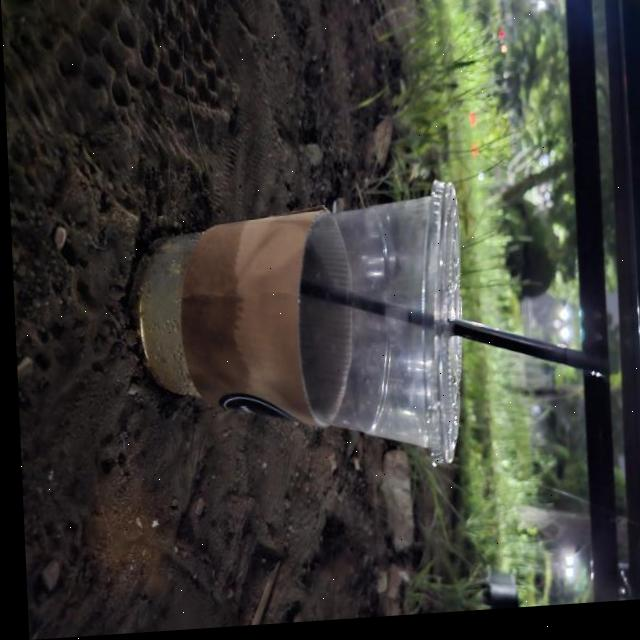cup: (116, 174, 471, 496)
